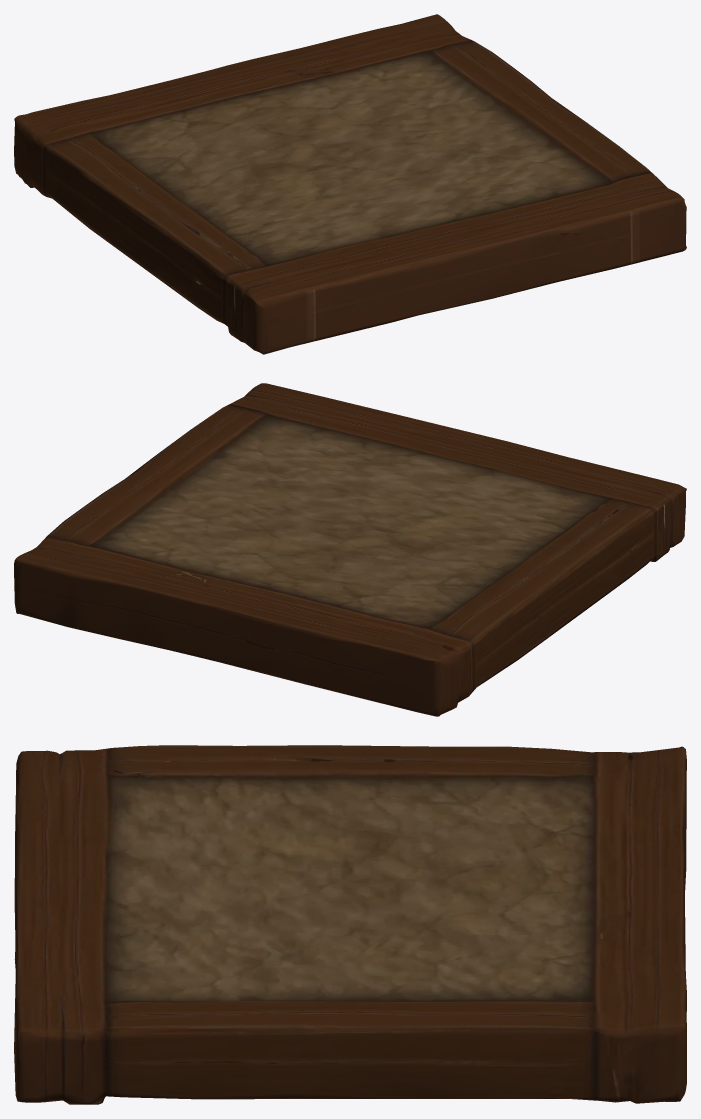
The model's file is blk_dungeon_ceiling.glb.
3 renders of one model, top to bottom at view 1: azimuth 30°, elevation 25°; view 2: azimuth 150°, elevation 25°; view 3: azimuth 270°, elevation 25°, orthographic. The views are drawn at different scales.
Parts seen in each view (by area): view 1: Mesh0; view 2: Mesh0; view 3: Mesh0.
Boxes of the visible parts, box(x1,y1,x2,y2) form: Mesh0: box(14, 14, 686, 354); Mesh0: box(14, 383, 686, 716); Mesh0: box(14, 745, 686, 1104).
Bounding box in the file's own units: 1.89 × 0.2648 × 1.89.
1 material, 1 textured.
